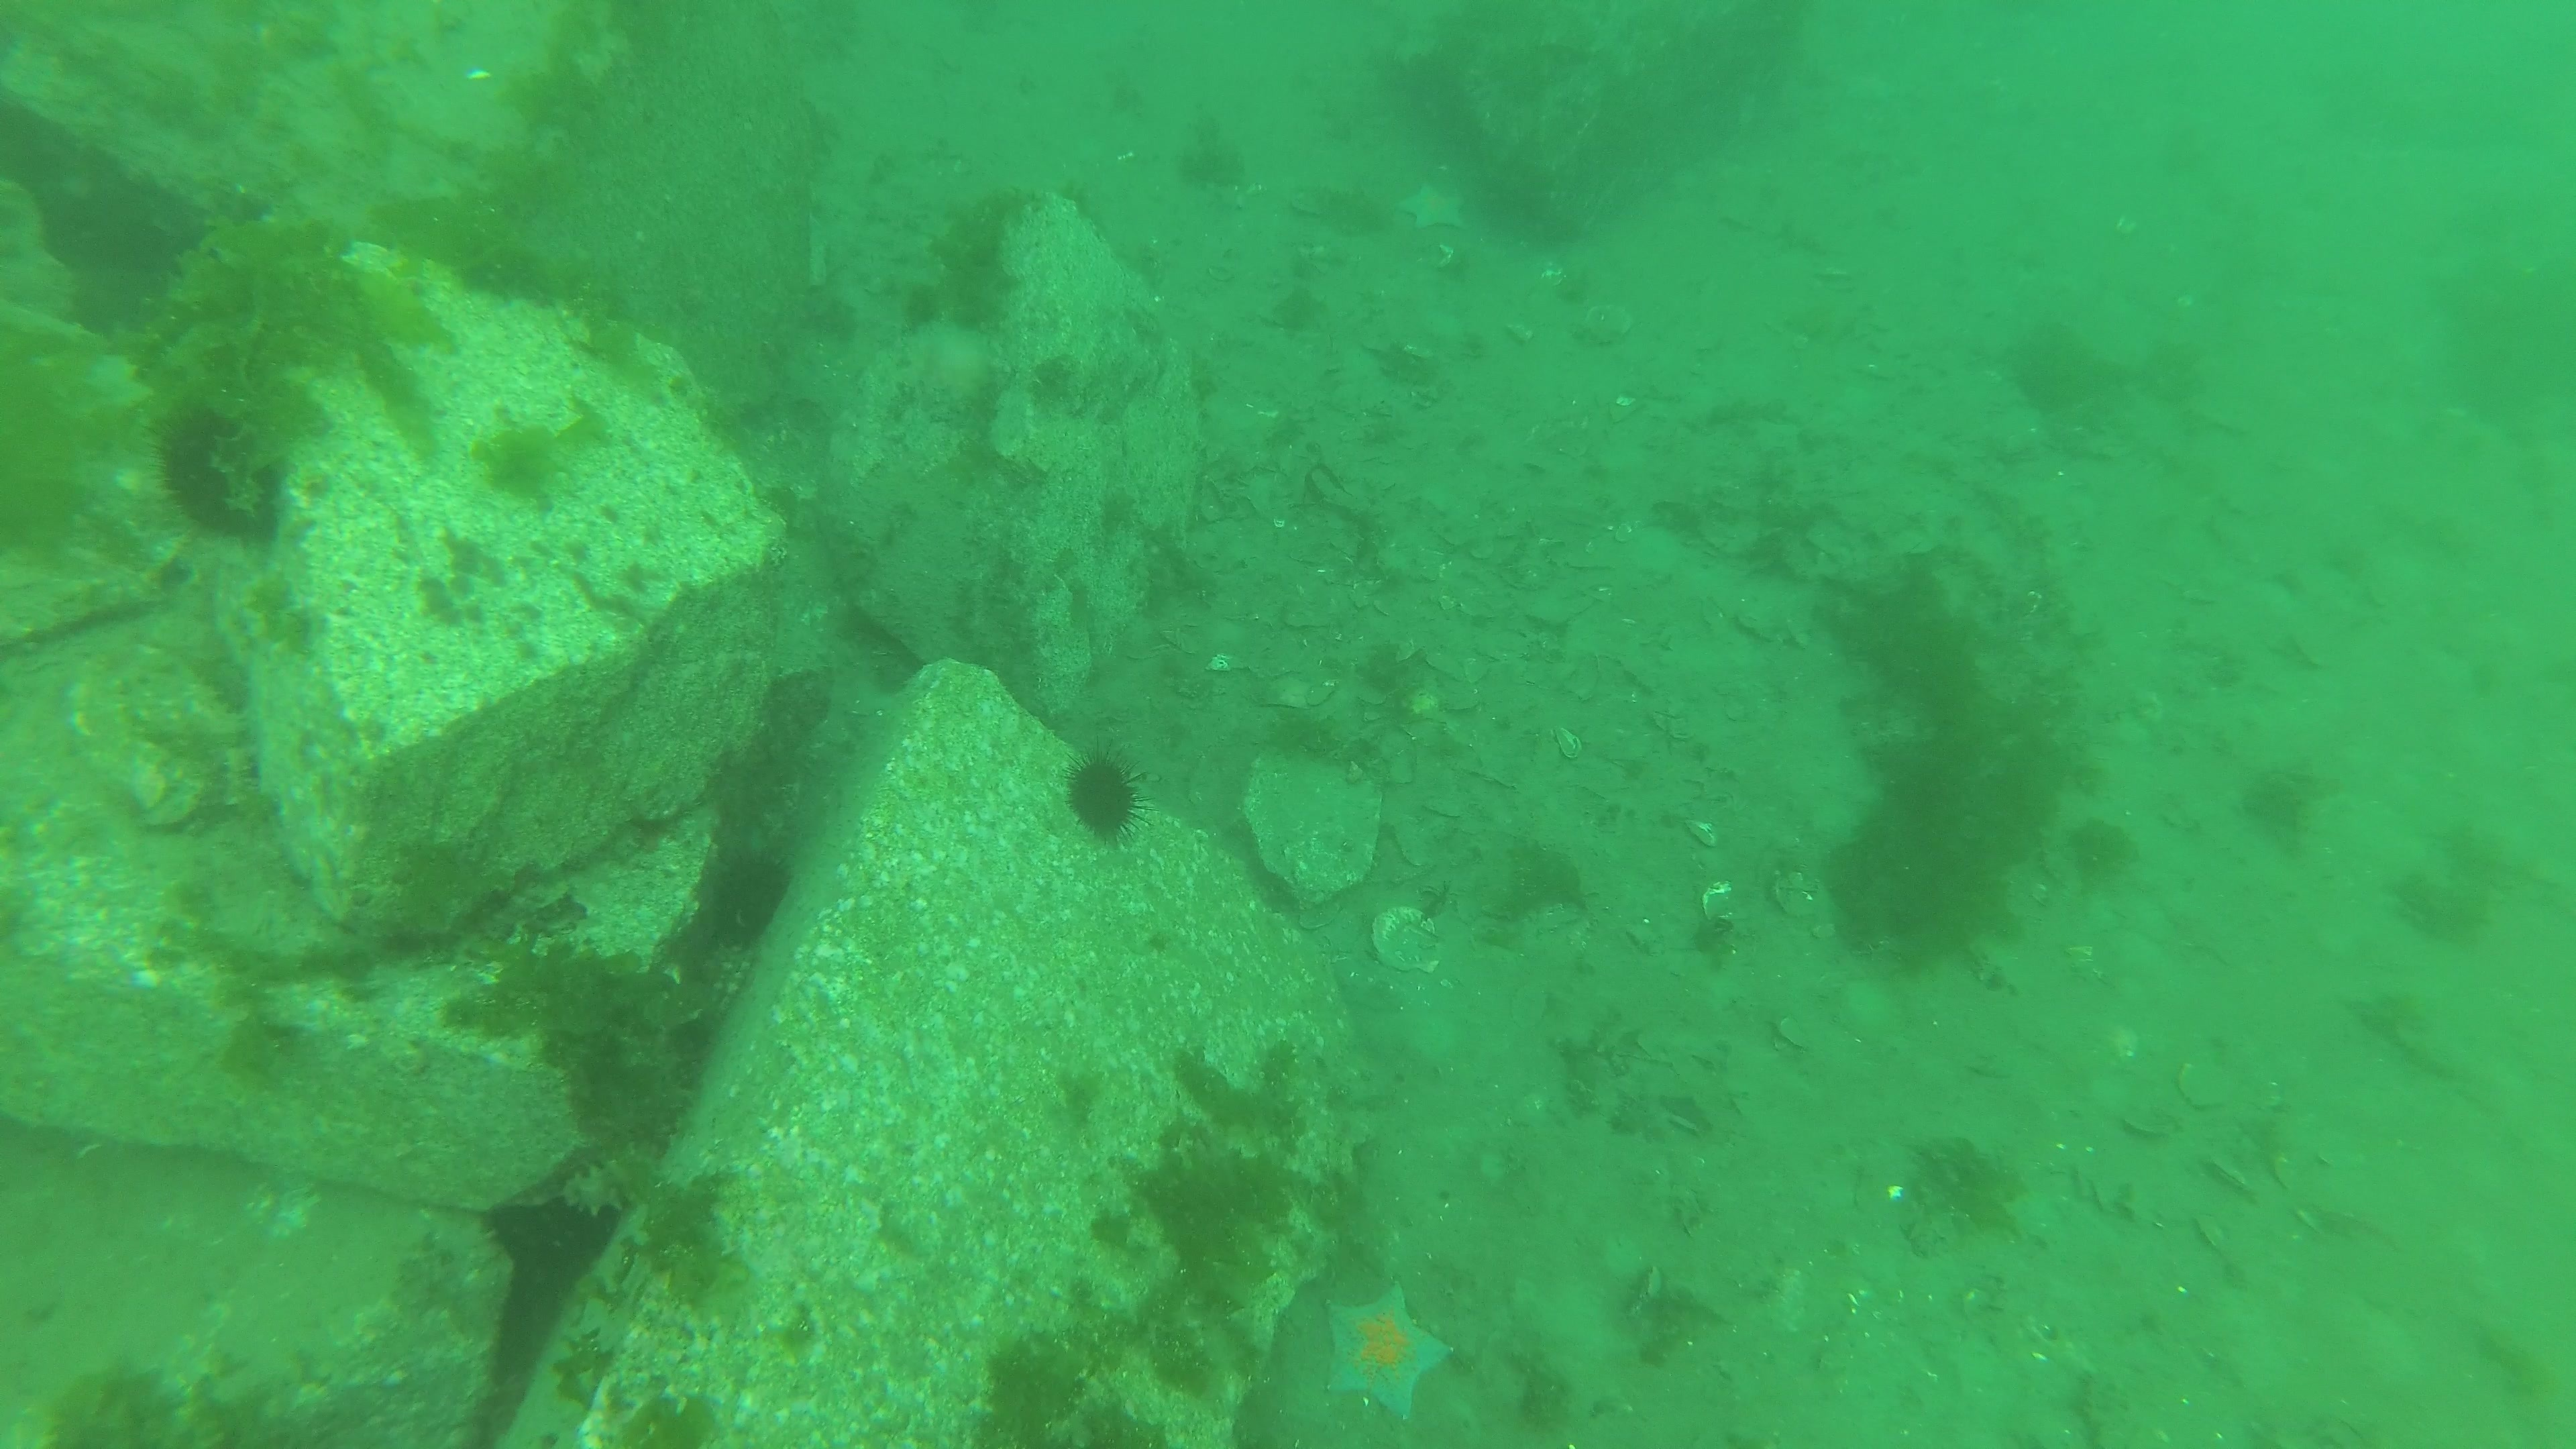echinus: (145, 393, 285, 543), (1058, 734, 1159, 846), (713, 844, 796, 941)
holothurian: (559, 1152, 663, 1219), (221, 745, 260, 809)
scallop: (1371, 902, 1453, 977)
starfish: (1323, 1279, 1454, 1424), (1398, 182, 1467, 232)
